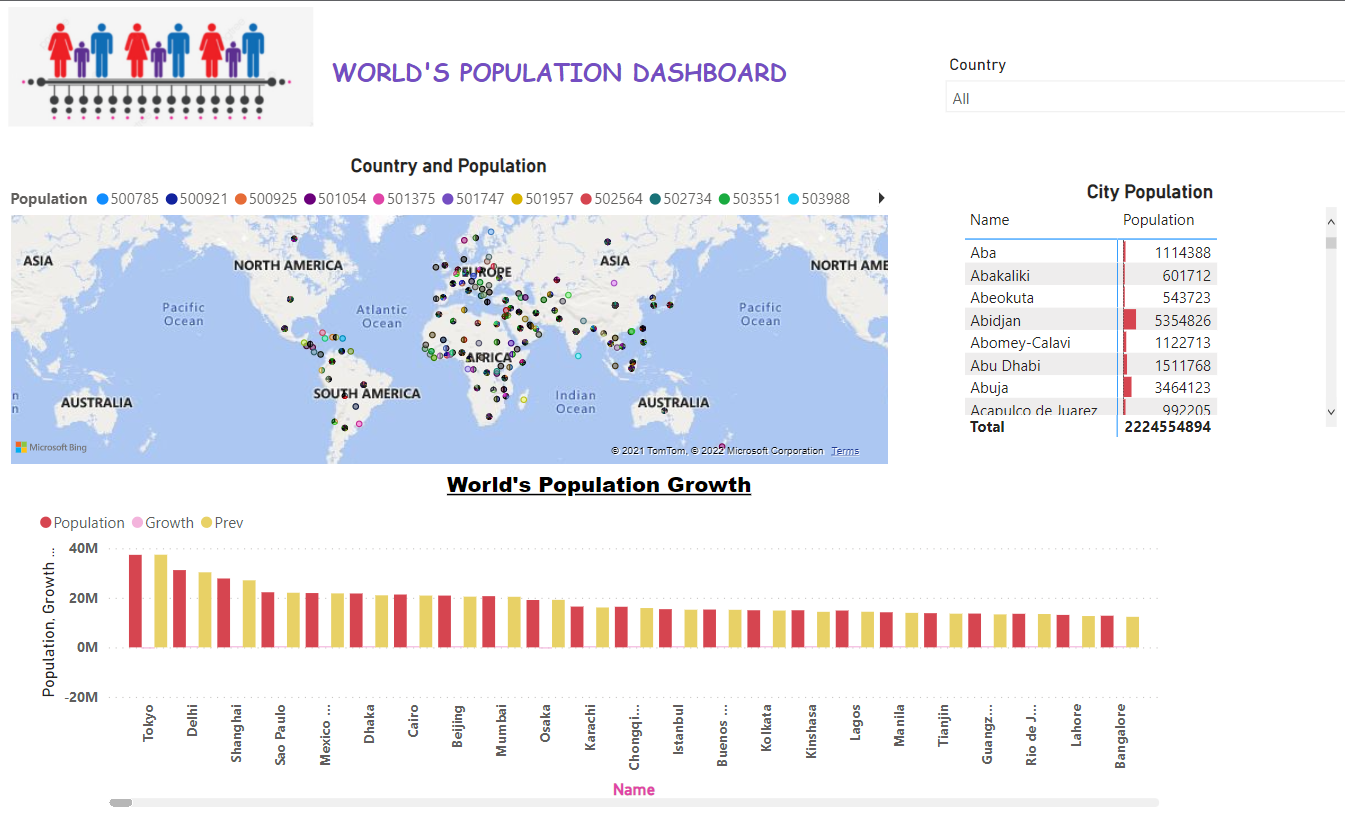

What the dashboard file says about the page in this screenshot:
{"tool":"powerbi","page":{"name":"Page 1","canvas":[1280,720],"ordinal":0},"visuals":[{"type":"map","fields":{"Category":["csvData.Country","csvData.Name"],"Series":["csvData.Population"]},"box":[9.5,135.1,788.3,279.7],"z":0},{"type":"lineClusteredColumnComboChart","title":"World''s Population Growth","fields":{"Category":["csvData.Name"],"Y":["Sum(csvData.Population)","Sum(csvData.Growth)","Sum(csvData.Prev)"]},"box":[35,414.8,1004.5,305.2],"z":1000},{"type":"slicer","fields":{"Values":["csvData.Country"]},"box":[834.4,42.9,410.1,73.1],"z":1001},{"type":"pivotTable","title":"City Population","fields":{"Rows":["csvData.Name"],"Values":["Sum(csvData.Population)"]},"box":[855.1,158.9,340.1,233.6],"z":1002},{"type":"image","box":[0,0,295.6,116],"z":1003},{"type":"textbox","box":[1040,415,155,305],"z":1004},{"type":"textbox","box":[284.5,42.9,433.9,60.4],"z":1005}]}

Visuals, with their boxes on the page's 1280x720 design canvas (x1, y1, x2, y2). These are canvas units, not pixel positions in the 1345x814 screenshot, which may show the page scaled, cropped or inside an application window:
map - csvData.Country x csvData.Name: {"left": 10, "top": 135, "right": 798, "bottom": 415}
"World''s Population Growth" lineClusteredColumnComboChart: {"left": 35, "top": 415, "right": 1040, "bottom": 720}
slicer - csvData.Country: {"left": 834, "top": 43, "right": 1244, "bottom": 116}
"City Population" pivotTable: {"left": 855, "top": 159, "right": 1195, "bottom": 392}
image: {"left": 0, "top": 0, "right": 296, "bottom": 116}
textbox: {"left": 1040, "top": 415, "right": 1195, "bottom": 720}
textbox: {"left": 284, "top": 43, "right": 718, "bottom": 103}
